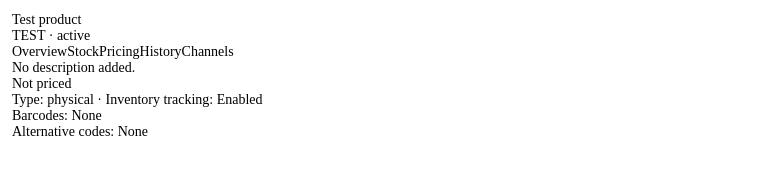
it: native detail exposes five tabs, denied stock and channel access without business mutations
This screenshot has width=760, height=172.
Check: the heading "Test product" is shown, box [12, 12, 81, 27]
Click the tab "Stock": {"x": 83, "y": 52} [67, 44, 99, 60]
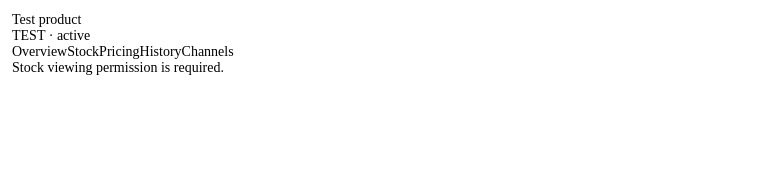
Check: the text "Stock viewing permission is required." is shown, box [12, 60, 224, 75]
Click the tab "Channels": {"x": 208, "y": 52} [182, 44, 234, 60]
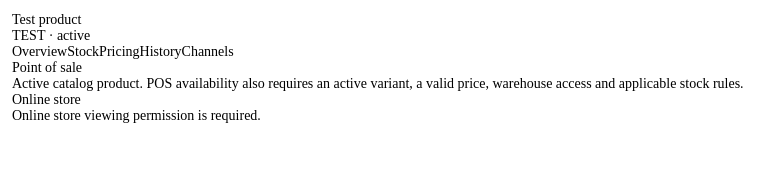
Check: the text "Online store viewing permission is required." is shown, box [12, 108, 261, 123]
